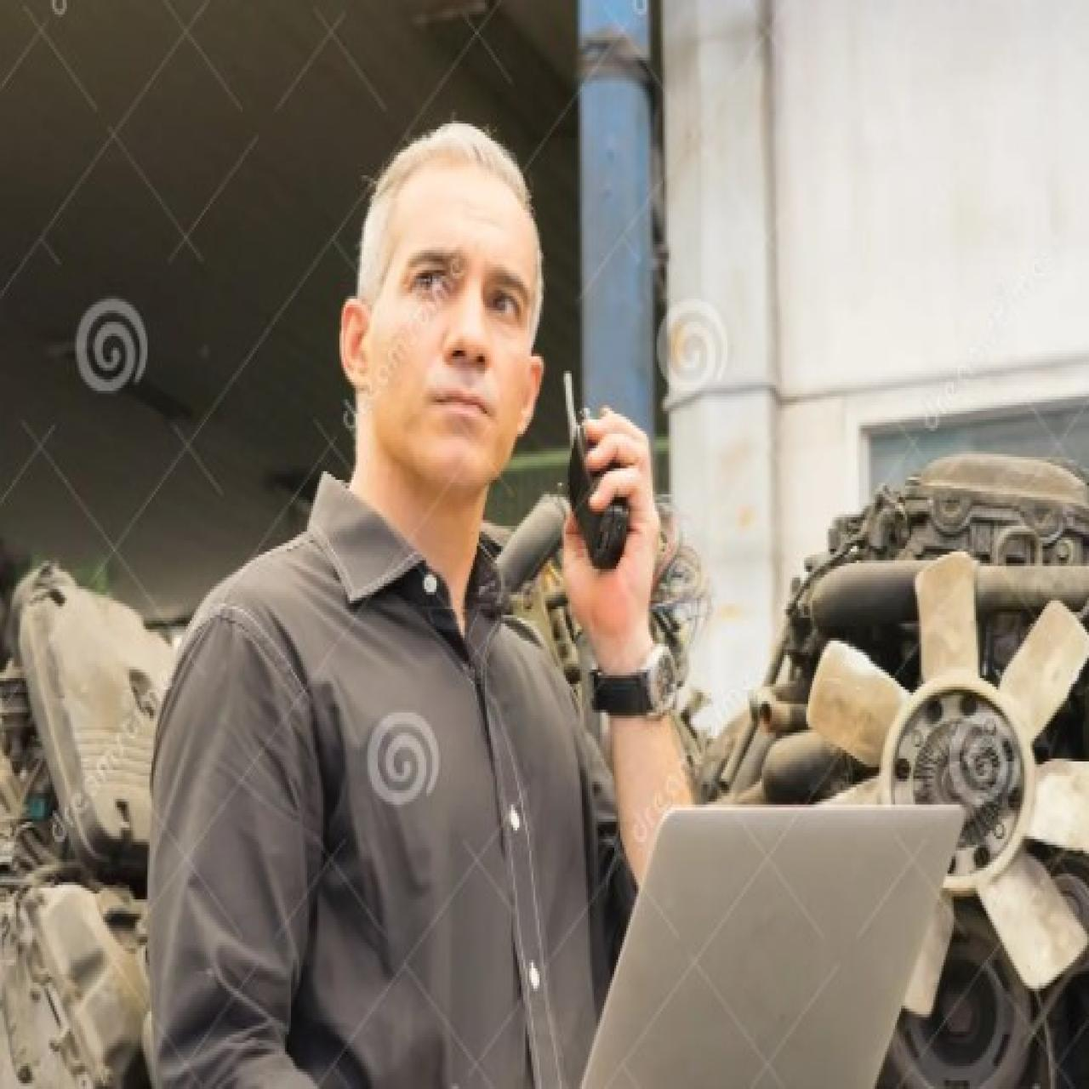NO_Safety_Vest: (216, 522, 600, 1089)
Person: (133, 99, 734, 1089)
